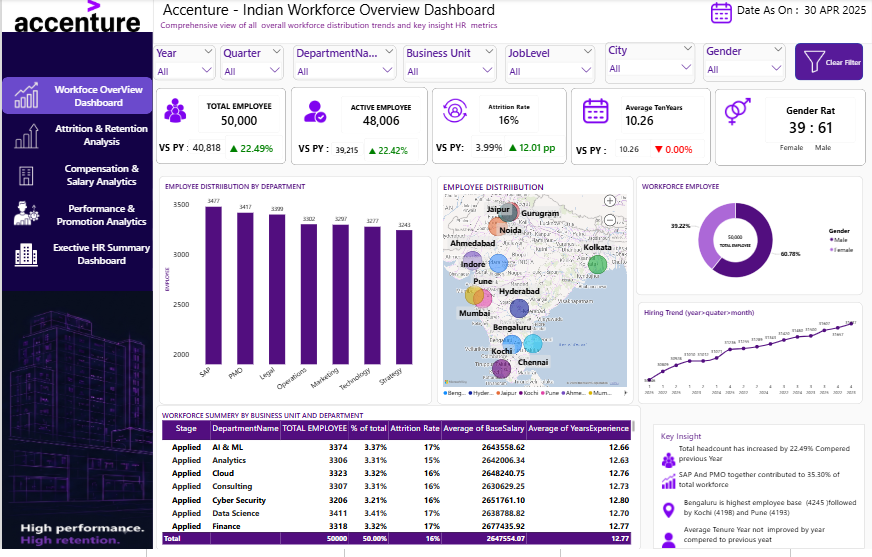

The dashboard page shown, as its layout file describes it:
{"tool":"powerbi","page":{"name":"Workfoce OverView Dashboard","canvas":[2500,1580],"ordinal":0},"visuals":[{"type":"shape","box":[0,0,432.9,94.8],"z":0,"group":"g3"},{"type":"shape","box":[432.9,0,2066.6,129.6],"z":0,"group":"g2"},{"type":"shape","box":[0,94.8,432.9,1485.2],"z":0,"group":"g1"},{"type":"slicer","fields":{"Values":["DimDate.Year"]},"box":[432.9,132.7,180.1,101.1],"z":0,"group":"g4"},{"type":"shape","box":[829.5,253.7,391.8,224.4],"z":0,"group":"g6"},{"type":"shape","box":[1635.3,255.3,401.3,221.2],"z":0,"group":"g8"},{"type":"shape","box":[442.4,256.9,372.9,218],"z":0,"group":"g5"},{"type":"shape","box":[1235.6,256.9,385.5,218],"z":0,"group":"g7"},{"type":"shape","box":[2047.5,257.5,432.5,220],"z":0,"group":"g11"},{"type":"clusteredColumnChart","title":"EMPLOYEE  DISTRIIBUTION BY DEPARTMENT ","fields":{"Category":["DimDepartment.DepartmentName"],"Y":["ALL_Measure_Page1.TOTAL EMPLOYEE"]},"box":[452,508,784,656],"z":0},{"type":"donutChart","title":"WORKFORCE EMPLOYEE","fields":{"Category":["DimEmployee.Gender"],"Y":["ALL_Measure_Page1.TOTAL EMPLOYEE"]},"box":[1821.7,508.3,651.7,341.7],"z":0,"group":"g10"},{"type":"shape","box":[1870,1222,608,358],"z":0,"group":"g9"},{"type":"image","box":[0,0,432.9,94.8],"z":1000,"group":"g3"},{"type":"textbox","box":[432.9,0,1011.2,129.6],"z":1000,"group":"g2"},{"type":"slicer","fields":{"Values":["DimDate.Quarter"]},"box":[625.7,132.7,183.3,101.1],"z":1000,"group":"g4"},{"type":"pageNavigator","box":[0,224.4,432.9,565.6],"z":1000,"group":"g1"},{"type":"image","box":[1670.6,268,72.8,108],"z":1000,"group":"g8"},{"type":"image","box":[463.4,269.4,69.9,105.9],"z":1000,"group":"g5"},{"type":"image","box":[1268.1,269.4,69.2,106.5],"z":1000,"group":"g7"},{"type":"image","box":[2073.1,269.5,78.6,107.4],"z":1000,"group":"g11"},{"type":"image","box":[865.1,270,71.4,107.1],"z":1000,"group":"g6"},{"type":"map","title":"EMPLOYEE DISTRIIBUTION","fields":{"Category":["DimLocation.City"],"Series":["DimLocation.City"],"Size":["ALL_Measure_Page1.TOTAL EMPLOYEE"]},"box":[1250,508,564,656],"z":1000},{"type":"card","fields":{"Values":["ALL_Measure_Page1.TOTAL EMPLOYEE"]},"box":[2036.7,656.6,138.3,73.3],"z":1000,"group":"g10"},{"type":"textbox","box":[1892,1238,156,38],"z":1000,"group":"g9"},{"type":"textbox","box":[2110.9,9.5,388.7,60],"z":2000,"group":"g2"},{"type":"slicer","fields":{"Values":["DimDepartment.DepartmentName"]},"box":[834.2,132.7,297,101.1],"z":2000,"group":"g4"},{"type":"image","box":[31.6,233.8,75.8,85.3],"z":2000,"group":"g1"},{"type":"cardVisual","fields":{"Data":["ALL_Measure_Page1.TOTAL EMPLOYEE"]},"box":[563.7,276.7,235,109],"z":2000,"group":"g5"},{"type":"cardVisual","fields":{"Data":["ALL_Measure_Page1.Attrition Rate"]},"box":[1371.8,276.7,171.6,109],"z":2000,"group":"g7"},{"type":"cardVisual","fields":{"Data":["ALL_Measure_Page1.Average TenYears"]},"box":[1780,277.9,240.2,108.1],"z":2000,"group":"g8"},{"type":"cardVisual","fields":{"Data":["ALL_Measure_Page1.ACTIVE EMPLOYEE"]},"box":[972.2,279.5,228.6,107.1],"z":2000,"group":"g6"},{"type":"cardVisual","fields":{"Data":["ALL_Measure_Page1.Gender Rat"]},"box":[2190,280,260,132.5],"z":2000,"group":"g11"},{"type":"lineChart","title":"Hiring Trend (year>quater>month)","fields":{"Category":["DimDate.Year","DimDate.Quarter","DimDate.Month"],"Y":["CountNonNull(FactRecruitment.EmployeeID)"]},"box":[1828.3,871.7,645,293.3],"z":2000},{"type":"image","box":[1892,1302,44,48],"z":2000,"group":"g9"},{"type":"image","box":[2035,0,60,79],"z":3000,"group":"g2"},{"type":"slicer","fields":{"Values":["DimJobLevel.JobLevel"]},"box":[1444.1,132.7,259.1,110.6],"z":3000,"group":"g4"},{"type":"image","box":[31.6,350.8,75.8,85.3],"z":3000,"group":"g1"},{"type":"textbox","box":[450.7,408,104.5,64.4],"z":3000,"group":"g5"},{"type":"textbox","box":[1246.4,408,115.9,47.1],"z":3000,"group":"g7"},{"type":"textbox","box":[2235,410,100,42.5],"z":3000,"group":"g11"},{"type":"textbox","box":[842.6,412,120.6,64.8],"z":3000,"group":"g6"},{"type":"textbox","box":[1649,414.9,111.9,42.7],"z":3000,"group":"g8"},{"type":"tableEx","title":"WORKFORCE SUMMERY BY BUSINESS UNIT AND DEPARTMENT","fields":{"Values":["FactRecruitment.Stage","DimDepartment.DepartmentName","ALL_Measure_Page1.TOTAL EMPLOYEE","ALL_Measure_Page1.% of total","ALL_Measure_Page1.Attrition Rate","Avg(FactCompensation.BaseSalary)","Avg(FactWorkforce.YearsExperience)"]},"box":[442.5,1165,1392.5,417.5],"z":3000},{"type":"textbox","box":[1944,1276,506,74],"z":3000,"group":"g9"},{"type":"group","id":"g1","title":"Left Pane","box":[0,94.8,432.9,1485.2],"z":4000},{"type":"slicer","fields":{"Values":["DimLocation.City"]},"box":[1731.7,123.2,259.1,120.1],"z":4000,"group":"g4"},{"type":"cardVisual","fields":{"Data":["ALL_Measure_Page1.Previous Year Attrition"]},"box":[1346.7,392.1,107.5,65],"z":4000,"group":"g7"},{"type":"cardVisual","fields":{"Data":["ALL_Measure_Page1.Previous TenYear"]},"box":[1760.9,402.3,106.5,52.8],"z":4000,"group":"g8"},{"type":"cardVisual","fields":{"Data":["ALL_Measure_Page1.Previous Year Employee"]},"box":[533.9,404.6,122.5,42.5],"z":4000,"group":"g5"},{"type":"textbox","box":[2335,410,87.5,47.5],"z":4000,"group":"g11"},{"type":"cardVisual","fields":{"Data":["ALL_Measure_Page1.Previous Year Active Employee"]},"box":[944.9,412,94.4,39.9],"z":4000,"group":"g6"},{"type":"image","box":[0,837.4,432.9,742.6],"z":4000,"group":"g1"},{"type":"image","box":[1892,1364,44,48],"z":4000,"group":"g9"},{"type":"group","id":"g2","title":"Top Pane","box":[432.9,0,2066.6,129.6],"z":5000},{"type":"slicer","fields":{"Values":["DimEmployee.Gender"]},"box":[2012.9,126.4,237,110.6],"z":5000,"group":"g4"},{"type":"cardVisual","fields":{"Data":["ALL_Measure_Page1.Employee Difference"]},"box":[641.4,392.1,167.5,70],"z":5000,"group":"g5"},{"type":"cardVisual","fields":{"Data":["ALL_Measure_Page1.Difference Attrition"]},"box":[1441.7,392.1,177.5,62.5],"z":5000,"group":"g7"},{"type":"cardVisual","fields":{"Data":["ALL_Measure_Page1.Difference Active Employee"]},"box":[1039.3,399.5,157.3,67.3],"z":5000,"group":"g6"},{"type":"cardVisual","fields":{"Data":["ALL_Measure_Page1.Difference TenYear"]},"box":[1861.9,402.3,158.3,55.3],"z":5000,"group":"g8"},{"type":"image","box":[31.6,464.5,75.8,85.3],"z":5000,"group":"g1"},{"type":"textbox","box":[1944,1350,506,62],"z":5000,"group":"g9"},{"type":"group","id":"g3","title":"Logo","box":[0,0,432.9,94.8],"z":6000},{"type":"slicer","fields":{"Values":["FactRecruitment.Stage"]},"box":[1150.2,132.7,268.6,107.4],"z":6000,"group":"g4"},{"type":"image","box":[31.6,572,75.8,85.3],"z":6000,"group":"g1"},{"type":"image","box":[1892,1446,44,48],"z":6000,"group":"g9"},{"type":"group","id":"g4","title":"Slicer Top","box":[432.9,123.2,2041.4,120.1],"z":7000},{"type":"shape","box":[2278.3,126.4,195.9,107.4],"z":7000,"group":"g4"},{"type":"image","box":[31.6,692,75.8,85.3],"z":7000,"group":"g1"},{"type":"textbox","box":[1958,1432,516,76],"z":7000,"group":"g9"},{"type":"image","box":[2303.6,142.2,63.2,72.7],"z":8000,"group":"g4"},{"type":"group","id":"g5","title":"Total Employee ","box":[442.4,256.9,372.9,218],"z":8000},{"type":"image","box":[1892,1532,44,48],"z":8000,"group":"g9"},{"type":"textbox","box":[2366.8,167.4,107.4,47.4],"z":9000,"group":"g4"},{"type":"group","id":"g6","title":"ACTIVE EMPLOYEE","box":[829.5,253.7,391.8,224.4],"z":9000},{"type":"textbox","box":[1958,1508,492,72],"z":9000,"group":"g9"},{"type":"group","id":"g7","title":"Attrition Rate ","box":[1235.6,256.9,385.5,218],"z":10000},{"type":"group","id":"g8","title":"Average Tenure Year","box":[1635.3,255.3,385.5,221.2],"z":11000},{"type":"group","id":"g9","title":"Key Insight","box":[1870,1222,608,358],"z":12000},{"type":"group","id":"g10","title":"Workforce employee","box":[1821.7,508.3,651.7,341.7],"z":13000},{"type":"group","id":"g11","title":"GENDER RATE","box":[2047.5,257.5,432.5,220],"z":14000}]}

Visuals, with their boxes on the page's 2500x1580 design canvas (x1, y1, x2, y2). These are canvas units, not pixel positions in the 872x557 screenshot, which may show the page scaled, cropped or inside an application window:
shape: box(0, 0, 433, 95)
shape: box(433, 0, 2500, 130)
shape: box(0, 95, 433, 1580)
slicer - DimDate.Year: box(433, 133, 613, 234)
shape: box(830, 254, 1221, 478)
shape: box(1635, 255, 2037, 476)
shape: box(442, 257, 815, 475)
shape: box(1236, 257, 1621, 475)
shape: box(2048, 258, 2480, 478)
"EMPLOYEE  DISTRIIBUTION BY DEPARTMENT " clusteredColumnChart: box(452, 508, 1236, 1164)
"WORKFORCE EMPLOYEE" donutChart: box(1822, 508, 2473, 850)
shape: box(1870, 1222, 2478, 1580)
image: box(0, 0, 433, 95)
textbox: box(433, 0, 1444, 130)
slicer - DimDate.Quarter: box(626, 133, 809, 234)
pageNavigator: box(0, 224, 433, 790)
image: box(1671, 268, 1743, 376)
image: box(463, 269, 533, 375)
image: box(1268, 269, 1337, 376)
image: box(2073, 270, 2152, 377)
image: box(865, 270, 936, 377)
"EMPLOYEE DISTRIIBUTION" map: box(1250, 508, 1814, 1164)
card - ALL_Measure_Page1.TOTAL EMPLOYEE: box(2037, 657, 2175, 730)
textbox: box(1892, 1238, 2048, 1276)
textbox: box(2111, 10, 2500, 70)
slicer - DimDepartment.DepartmentName: box(834, 133, 1131, 234)
image: box(32, 234, 107, 319)
cardVisual - ALL_Measure_Page1.TOTAL EMPLOYEE: box(564, 277, 799, 386)
cardVisual - ALL_Measure_Page1.Attrition Rate: box(1372, 277, 1543, 386)
cardVisual - ALL_Measure_Page1.Average TenYears: box(1780, 278, 2020, 386)
cardVisual - ALL_Measure_Page1.ACTIVE EMPLOYEE: box(972, 280, 1201, 387)
cardVisual - ALL_Measure_Page1.Gender Rat: box(2190, 280, 2450, 412)
"Hiring Trend (year>quater>month)" lineChart: box(1828, 872, 2473, 1165)
image: box(1892, 1302, 1936, 1350)
image: box(2035, 0, 2095, 79)
slicer - DimJobLevel.JobLevel: box(1444, 133, 1703, 243)
image: box(32, 351, 107, 436)
textbox: box(451, 408, 555, 472)
textbox: box(1246, 408, 1362, 455)
textbox: box(2235, 410, 2335, 452)
textbox: box(843, 412, 963, 477)
textbox: box(1649, 415, 1761, 458)
"WORKFORCE SUMMERY BY BUSINESS UNIT AND DEPARTMENT" tableEx: box(442, 1165, 1835, 1582)
textbox: box(1944, 1276, 2450, 1350)
"Left Pane" group: box(0, 95, 433, 1580)
slicer - DimLocation.City: box(1732, 123, 1991, 243)
cardVisual - ALL_Measure_Page1.Previous Year Attrition: box(1347, 392, 1454, 457)
cardVisual - ALL_Measure_Page1.Previous TenYear: box(1761, 402, 1867, 455)
cardVisual - ALL_Measure_Page1.Previous Year Employee: box(534, 405, 656, 447)
textbox: box(2335, 410, 2422, 458)
cardVisual - ALL_Measure_Page1.Previous Year Active Employee: box(945, 412, 1039, 452)
image: box(0, 837, 433, 1580)
image: box(1892, 1364, 1936, 1412)
"Top Pane" group: box(433, 0, 2500, 130)
slicer - DimEmployee.Gender: box(2013, 126, 2250, 237)
cardVisual - ALL_Measure_Page1.Employee Difference: box(641, 392, 809, 462)
cardVisual - ALL_Measure_Page1.Difference Attrition: box(1442, 392, 1619, 455)
cardVisual - ALL_Measure_Page1.Difference Active Employee: box(1039, 400, 1197, 467)
cardVisual - ALL_Measure_Page1.Difference TenYear: box(1862, 402, 2020, 458)
image: box(32, 464, 107, 550)
textbox: box(1944, 1350, 2450, 1412)
"Logo" group: box(0, 0, 433, 95)
slicer - FactRecruitment.Stage: box(1150, 133, 1419, 240)
image: box(32, 572, 107, 657)
image: box(1892, 1446, 1936, 1494)
"Slicer Top" group: box(433, 123, 2474, 243)
shape: box(2278, 126, 2474, 234)
image: box(32, 692, 107, 777)
textbox: box(1958, 1432, 2474, 1508)
image: box(2304, 142, 2367, 215)
"Total Employee " group: box(442, 257, 815, 475)
image: box(1892, 1532, 1936, 1580)
textbox: box(2367, 167, 2474, 215)
"ACTIVE EMPLOYEE" group: box(830, 254, 1221, 478)
textbox: box(1958, 1508, 2450, 1580)
"Attrition Rate " group: box(1236, 257, 1621, 475)
"Average Tenure Year" group: box(1635, 255, 2021, 476)
"Key Insight" group: box(1870, 1222, 2478, 1580)
"Workforce employee" group: box(1822, 508, 2473, 850)
"GENDER RATE" group: box(2048, 258, 2480, 478)
